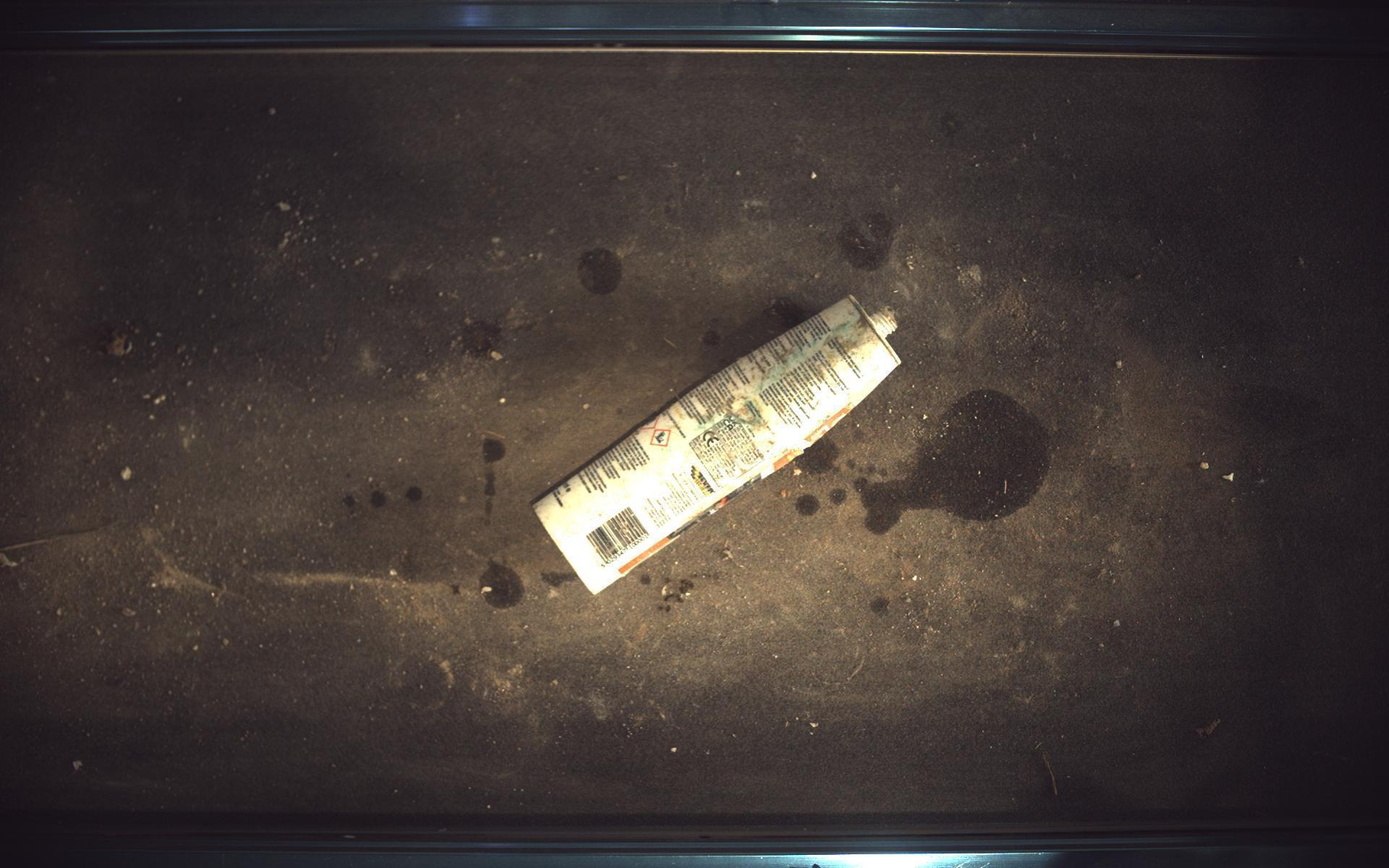plastic: (534, 296, 902, 594)
